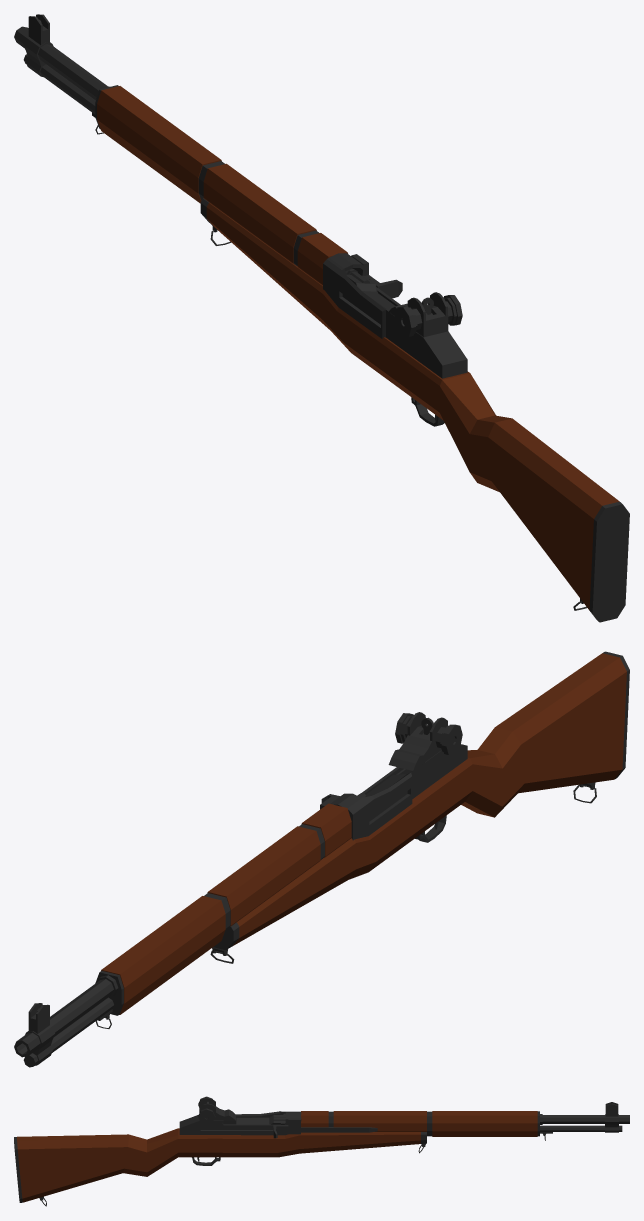
File: gun.glb
3 renders of one model, top to bottom at view 1: azimuth 30°, elevation 25°; view 2: azimuth 150°, elevation 25°; view 3: azimuth 270°, elevation 25°, orthographic. The views are drawn at different scales.
Visible parts, largest first — view 1: m1-garand-gun; view 2: m1-garand-gun; view 3: m1-garand-gun.
Boxes of the visible parts, <box> form: m1-garand-gun: <box>14,14,629,622</box>; m1-garand-gun: <box>14,651,629,1067</box>; m1-garand-gun: <box>14,1096,629,1206</box>.
Bounding box in the file's own units: 0.0711 × 0.2047 × 1.1.
